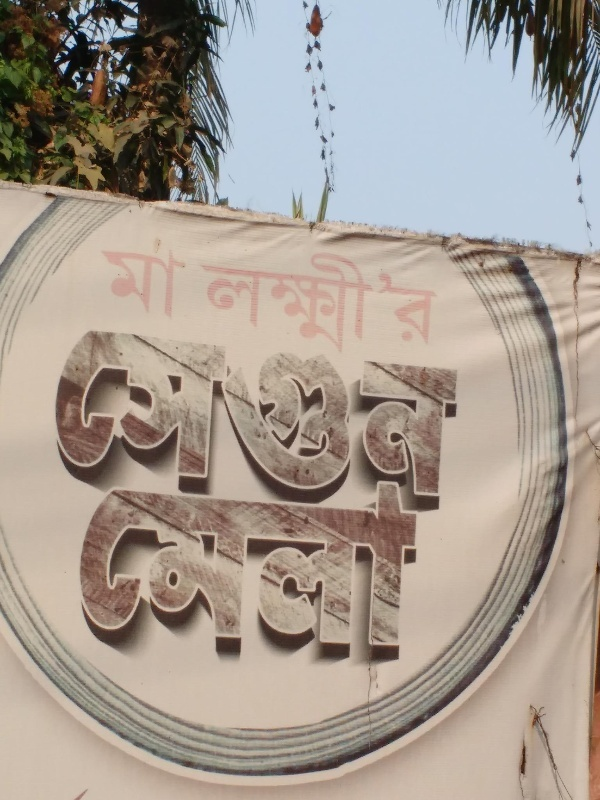text: (65, 315, 80, 515), (81, 315, 96, 515), (97, 315, 112, 515), (113, 315, 128, 515), (129, 315, 144, 515), (145, 315, 160, 515), (161, 315, 176, 515), (177, 315, 192, 515), (193, 315, 208, 515), (209, 315, 224, 515), (225, 315, 240, 515), (241, 315, 256, 515), (257, 315, 272, 515), (273, 315, 288, 515), (289, 315, 304, 515), (305, 315, 320, 515), (321, 315, 336, 515), (337, 315, 352, 515), (353, 315, 368, 515), (369, 315, 384, 515), (385, 315, 400, 515), (401, 315, 416, 515), (417, 315, 432, 515), (433, 315, 448, 515), (449, 315, 464, 515), (97, 478, 112, 668), (113, 478, 128, 668), (129, 478, 144, 668), (145, 478, 160, 668), (161, 478, 176, 668), (177, 478, 192, 668), (193, 478, 208, 668), (209, 478, 224, 668), (225, 478, 240, 668), (241, 478, 256, 668), (257, 478, 272, 668), (273, 478, 288, 668), (289, 478, 304, 668), (305, 478, 320, 668), (321, 478, 336, 668), (337, 478, 352, 668), (353, 478, 368, 668), (369, 478, 384, 668), (385, 478, 400, 668), (401, 478, 416, 668), (417, 478, 432, 668), (209, 239, 224, 367), (225, 239, 240, 367), (241, 239, 256, 367), (257, 239, 272, 367), (273, 239, 288, 367), (289, 239, 304, 367), (305, 239, 320, 367), (321, 239, 336, 367), (337, 239, 352, 367), (353, 239, 368, 367), (369, 239, 384, 367), (385, 239, 400, 367), (401, 239, 416, 367), (417, 239, 432, 367), (433, 478, 442, 668), (56, 315, 64, 515), (433, 239, 444, 367), (113, 234, 128, 327), (129, 234, 144, 327), (145, 234, 160, 327), (161, 234, 176, 327), (177, 234, 192, 327), (89, 478, 96, 668), (198, 239, 208, 367), (465, 315, 471, 515), (101, 234, 112, 327), (193, 234, 196, 327)
